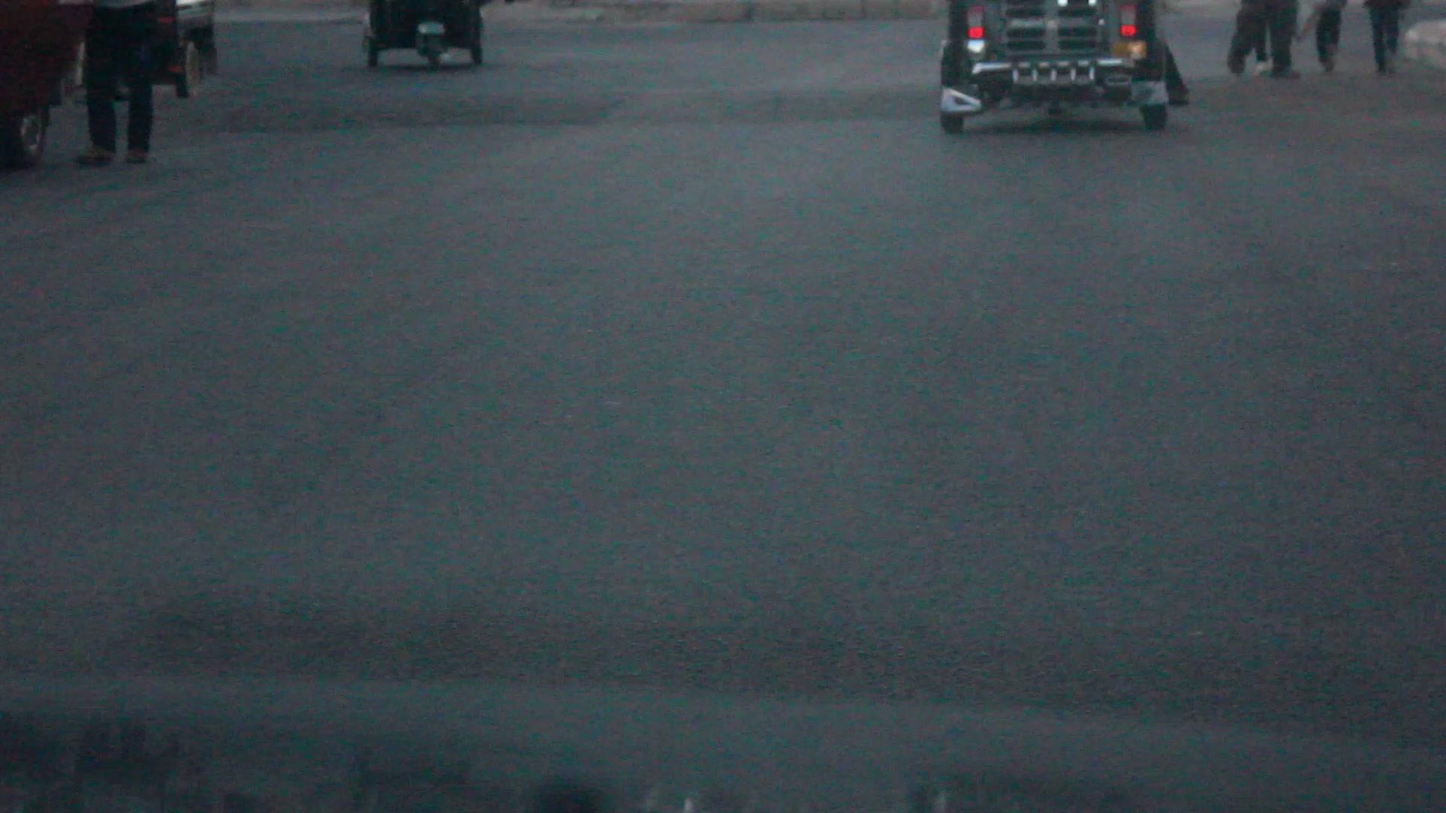Bump: (173, 75, 1446, 147)
